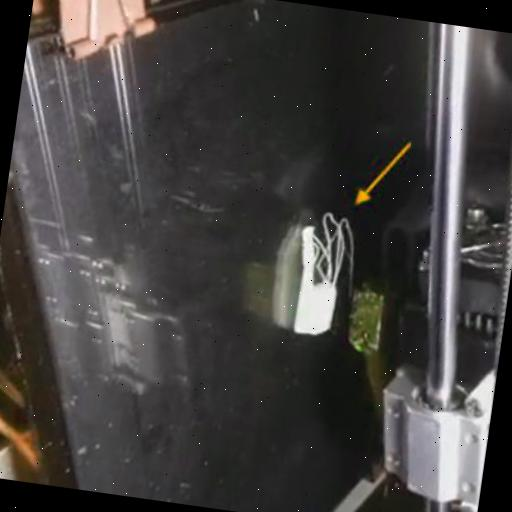spaghetti: (308, 211, 365, 293)
